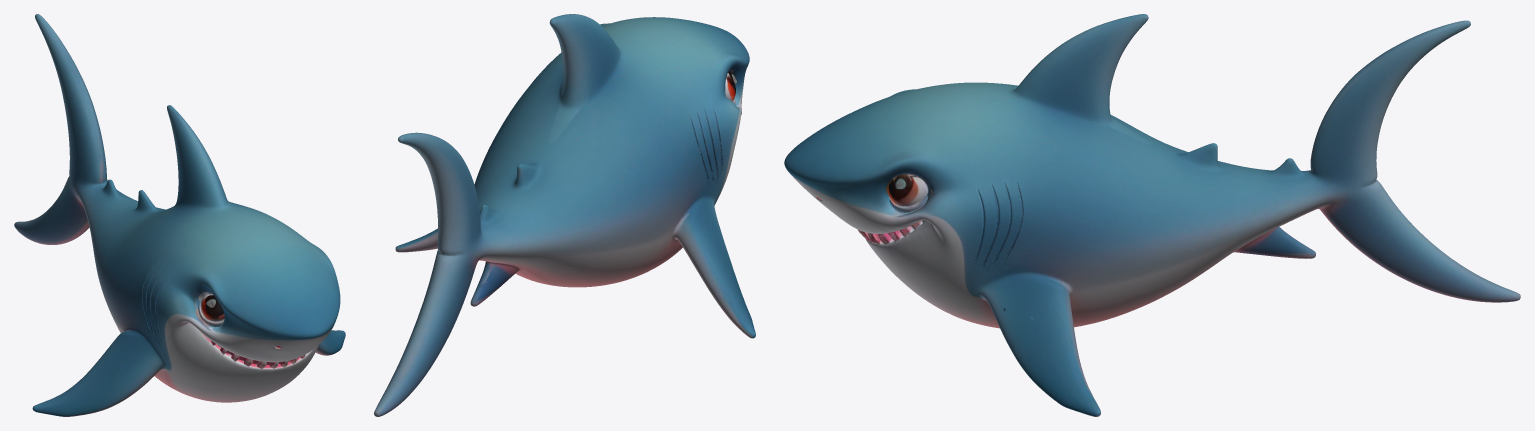
The model's file is ca-map-con.glb.
3 renders of one model, left to right at view 1: azimuth 30°, elevation 25°; view 2: azimuth 150°, elevation 25°; view 3: azimuth 270°, elevation 25°, orthographic. The views are drawn at different scales.
Visible parts, largest first — view 1: texture_pbr_v128; view 2: texture_pbr_v128; view 3: texture_pbr_v128.
Boxes of the visible parts, left/top/right/bottom form: texture_pbr_v128: left=14, top=14, right=345, bottom=416; texture_pbr_v128: left=374, top=14, right=755, bottom=416; texture_pbr_v128: left=784, top=14, right=1520, bottom=416.
Size of the model in its own units: 0.673 by 0.5248 by 1.12.
1 material, 1 textured.
